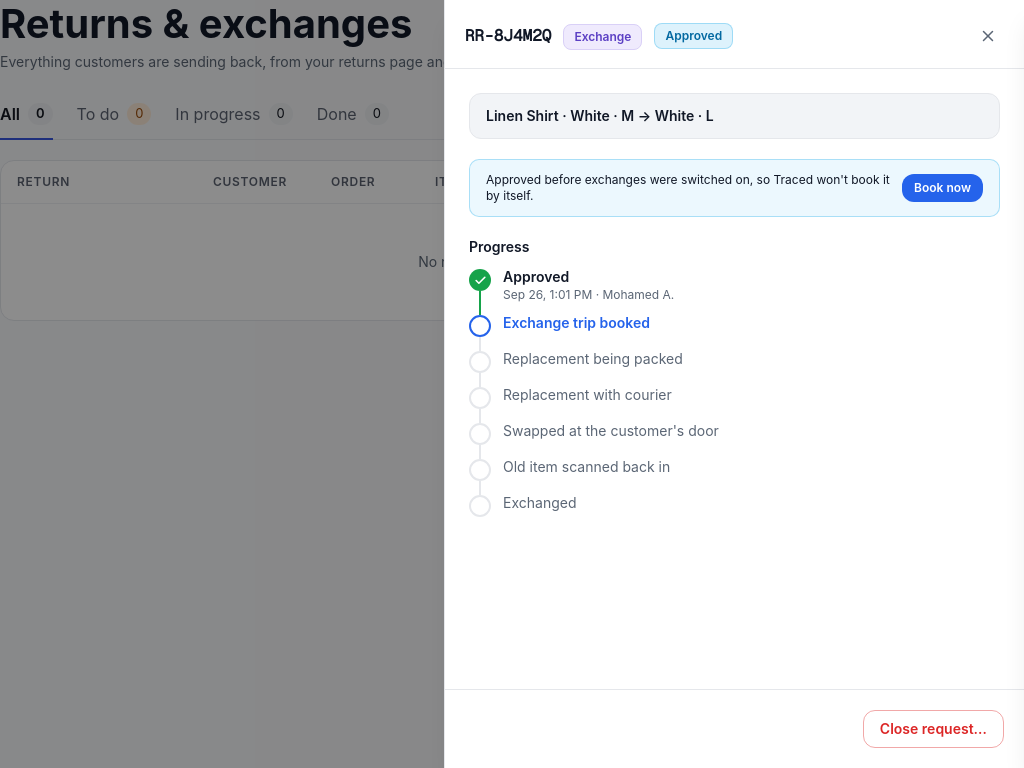
Drawer — X5 progress › Book now for an older approval posts book-now
Click the button "Book now".
click(943, 188)  # box [902,174,983,202]
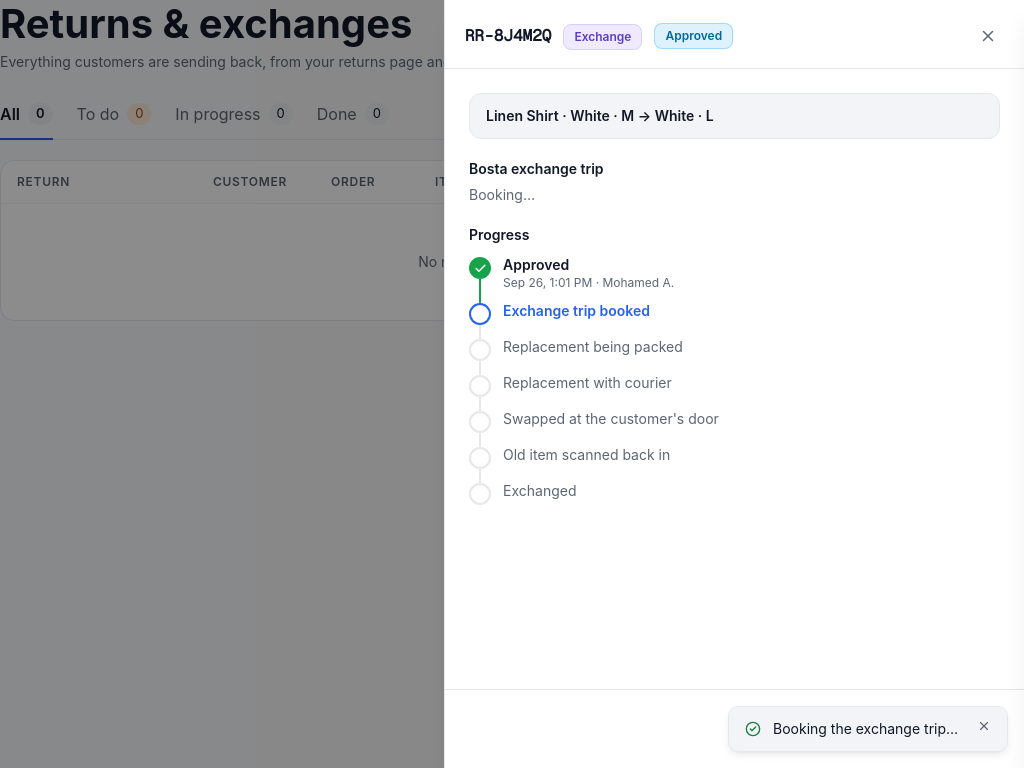
Now the element with test id "book-now" is gone
